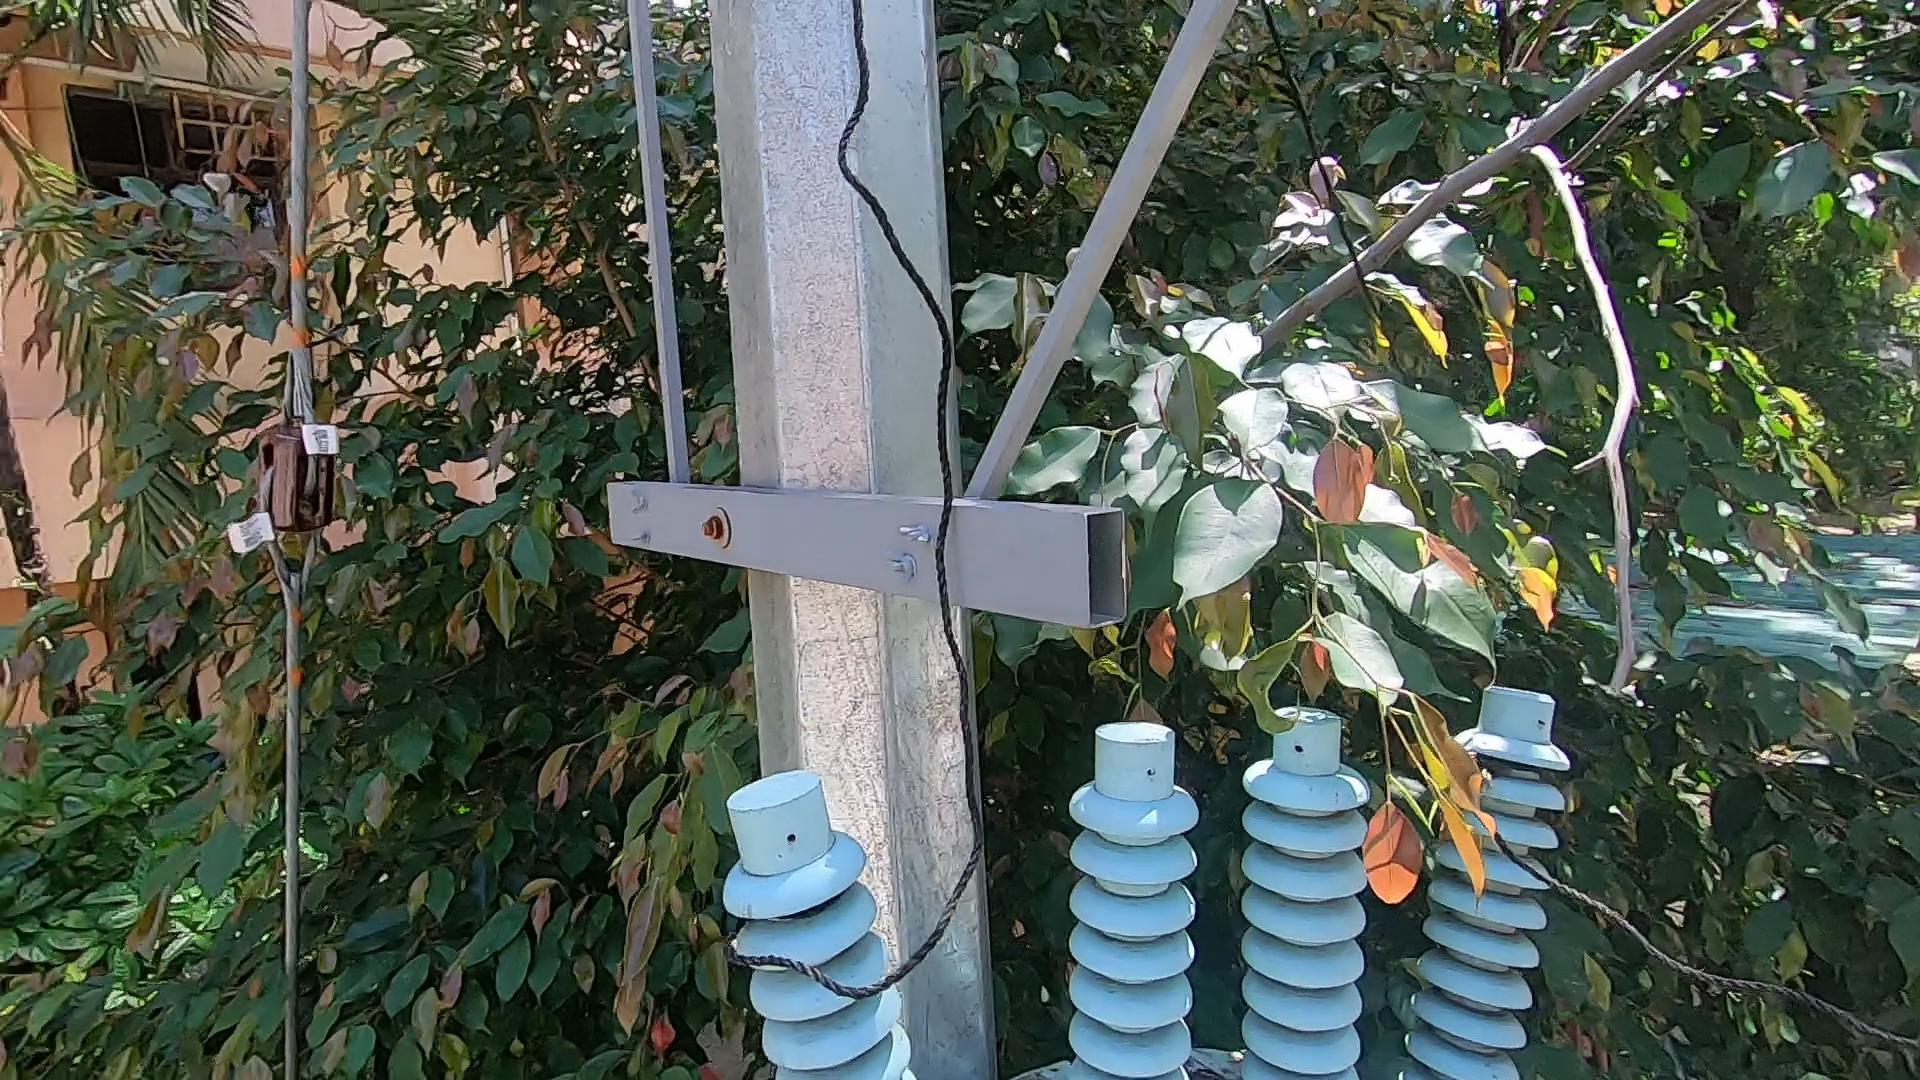tree branch: (1104, 1, 1782, 757)
